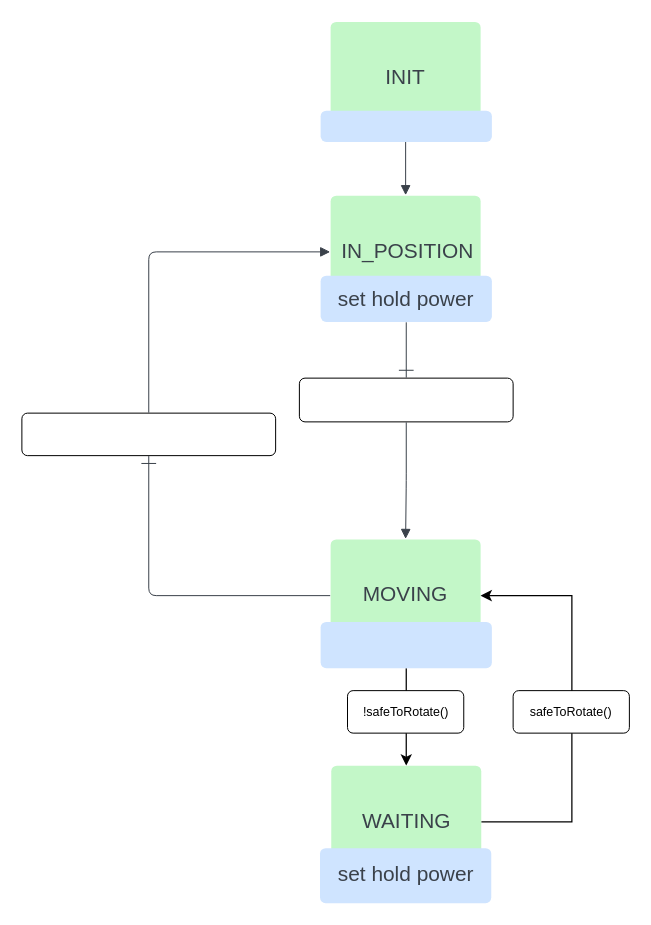
Some shapes in this 651 by 925 pixel diagram are drawn without their labels. Each missing label, with the centre of its shape:
desiredPositon!=currentPosition: the point at 405,399
motor.getPosition() = desiredPosition: the point at 148,434
nothing: the point at 406,126
set motors: the point at 406,644
